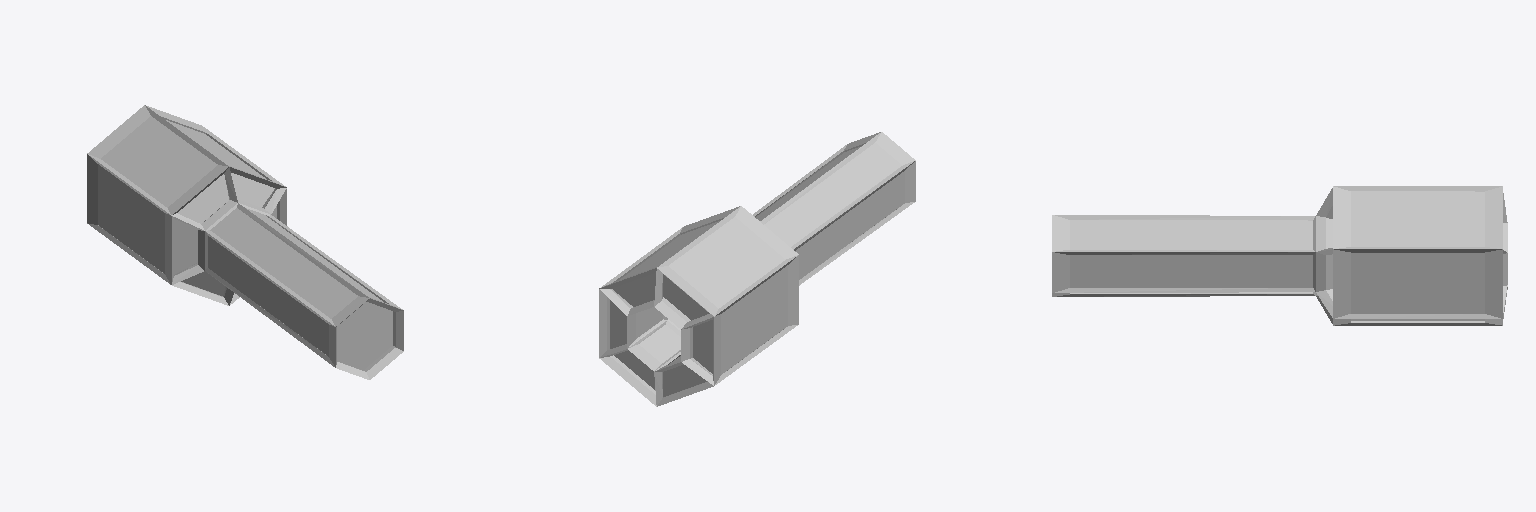
File: turret_canon_wire.obj
The picture shows the model from 3 angles: view 1: azimuth 30°, elevation 25°; view 2: azimuth 150°, elevation 25°; view 3: azimuth 270°, elevation 25°; orthographic projection.
Parts seen in each view (by area): view 1: Cylinder.001, Cylinder.003; view 2: Cylinder.001, Cylinder.003; view 3: Cylinder.001, Cylinder.003.
Part boxes in pixels (left/top/right/bottom): Cylinder.001: left=98, top=116, right=392, bottom=370; Cylinder.003: left=87, top=105, right=403, bottom=379; Cylinder.001: left=610, top=143, right=904, bottom=396; Cylinder.003: left=599, top=132, right=915, bottom=406; Cylinder.001: left=1070, top=191, right=1484, bottom=320; Cylinder.003: left=1052, top=186, right=1507, bottom=325.
Size of the model in its own units: 3.39 by 3.91 by 11.58.